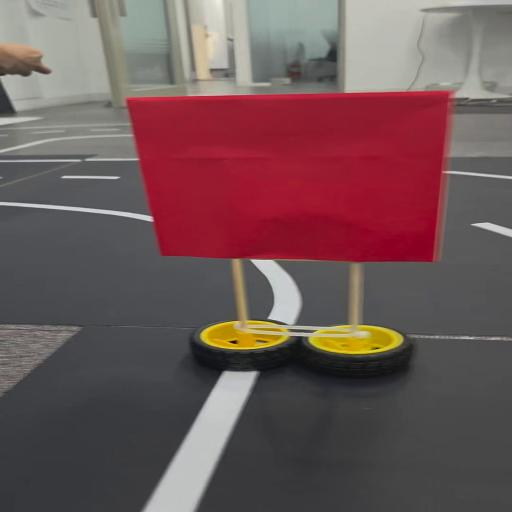Sign_A: (124, 90, 458, 387)
